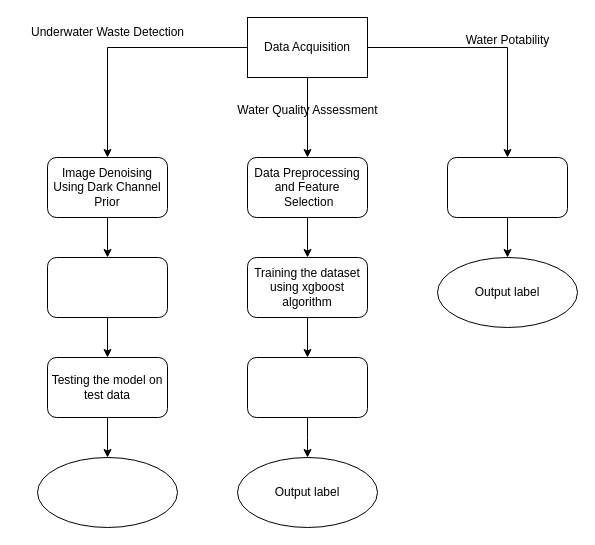
The diagram is 595 pixels wide and 545 high, and some of its shapes have lost their labels. Here are the shapes that lost their labels. From the top down, the centre of each, then its label:
(507,187): Rule Based Classifier
(107,287): Training the YoloV8 model on our denoised image dataset
(307,387): Evaluating the model
(107,492): Output image with bounding boxes and detected classes
